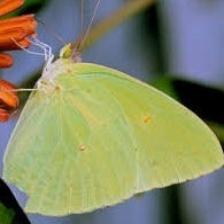butterfly: (4, 43, 224, 216)
